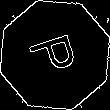P_E: (25, 29, 85, 81)
